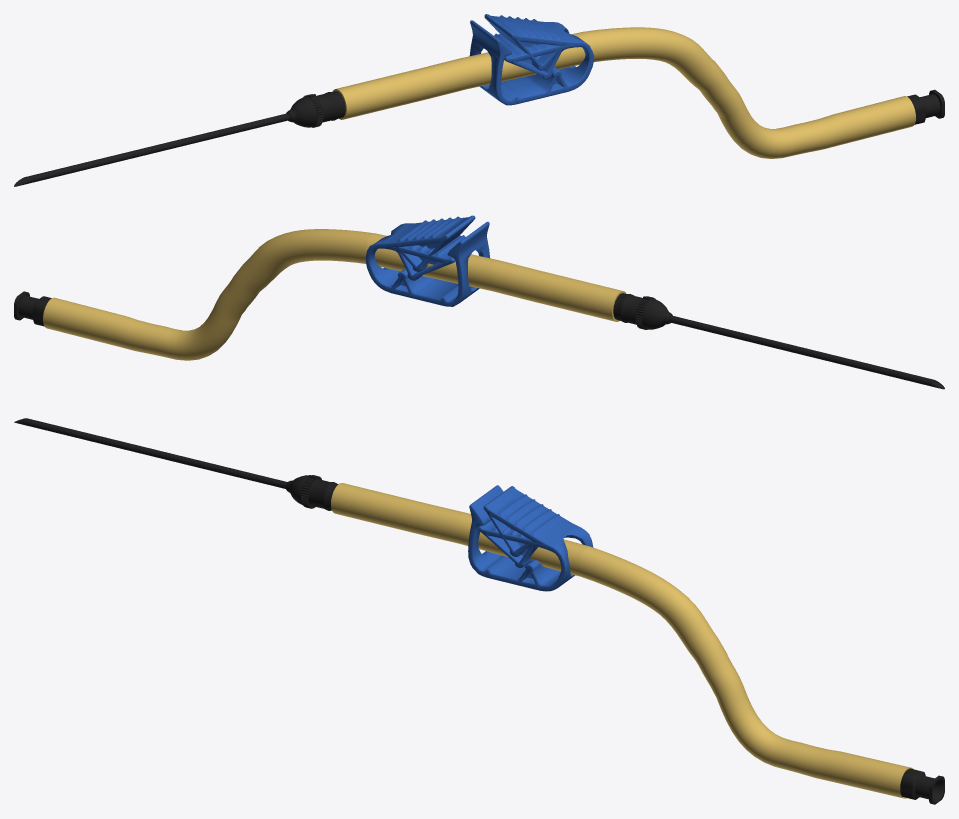
Rendered from 胸腔针_原始.FBX.
The picture shows the model from 3 angles, top to bottom: view 1: azimuth 30°, elevation 25°; view 2: azimuth 150°, elevation 25°; view 3: azimuth 330°, elevation 25°; orthographic projection.
Visible parts, largest first — view 1: guan, Tube_clip_cl, Puncture_rubber_tube, Tube_clip_open; view 2: guan, Tube_clip_cl, Puncture_rubber_tube, Tube_clip_open; view 3: guan, Tube_clip_cl, Puncture_rubber_tube, Tube_clip_open.
Boxes of the visible parts, box(x1,y1,x2,y2) form: guan: box(332, 27, 915, 158); Tube_clip_cl: box(469, 20, 594, 105); Puncture_rubber_tube: box(14, 89, 944, 186); Tube_clip_open: box(484, 14, 578, 70); guan: box(43, 229, 626, 360); Tube_clip_cl: box(365, 221, 489, 306); Puncture_rubber_tube: box(14, 291, 944, 389); Tube_clip_open: box(381, 215, 475, 271); guan: box(331, 483, 913, 798); Tube_clip_cl: box(468, 485, 593, 591); Puncture_rubber_tube: box(14, 418, 944, 804); Tube_clip_open: box(476, 486, 577, 556).
Bounding box in the file's own units: 7.9 × 1.66 × 0.4146.
